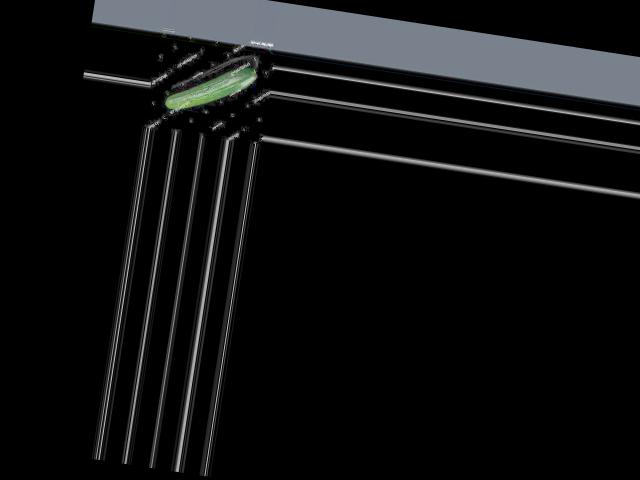cucumber: (163, 54, 257, 120)
